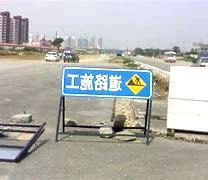sign: (61, 66, 152, 100)
